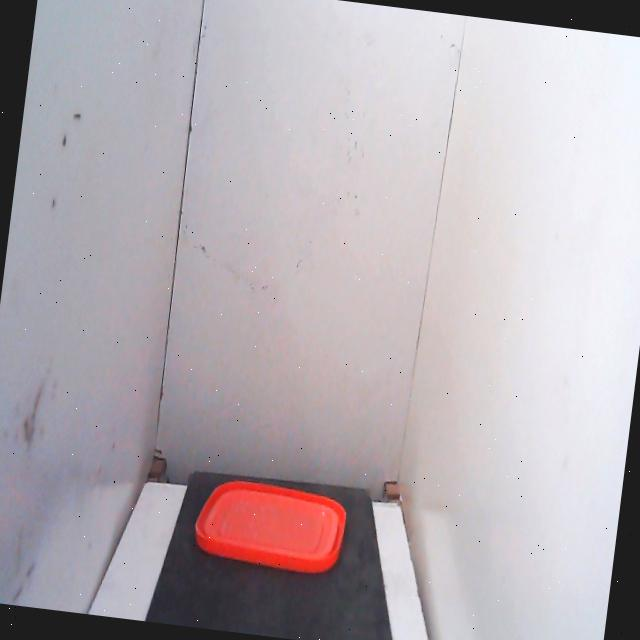plastico: (182, 456, 358, 590)
